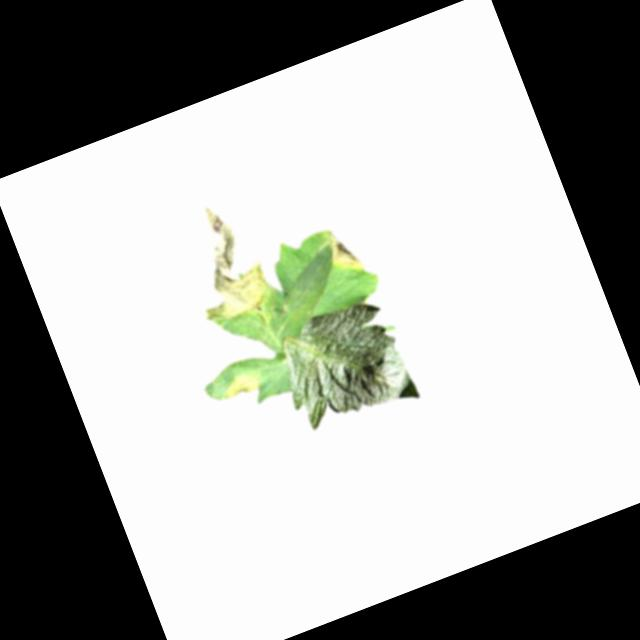Late_blight: (164, 192, 277, 330), (315, 221, 366, 279), (217, 364, 266, 408)
